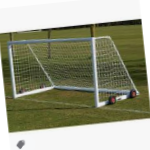goals: (6, 34, 142, 109)
